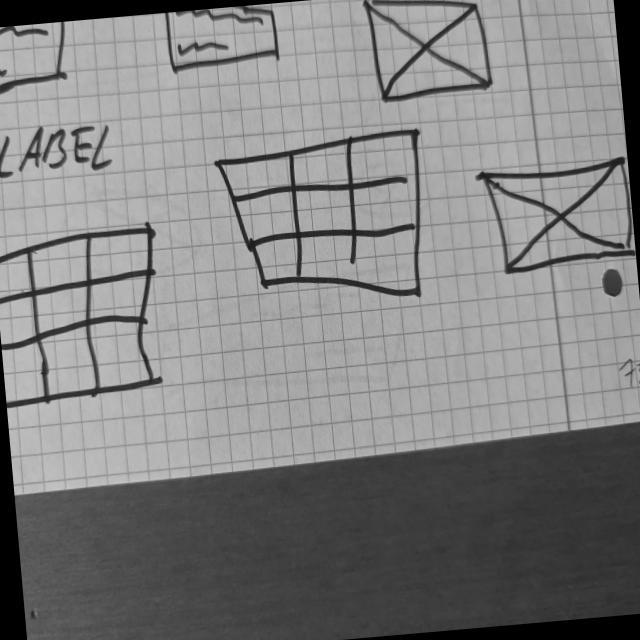image: (481, 153, 638, 280), (363, 1, 498, 107)
label: (1, 116, 116, 189)
table: (213, 126, 435, 315), (1, 225, 172, 411)
textarea: (161, 4, 284, 78), (1, 22, 73, 107)
